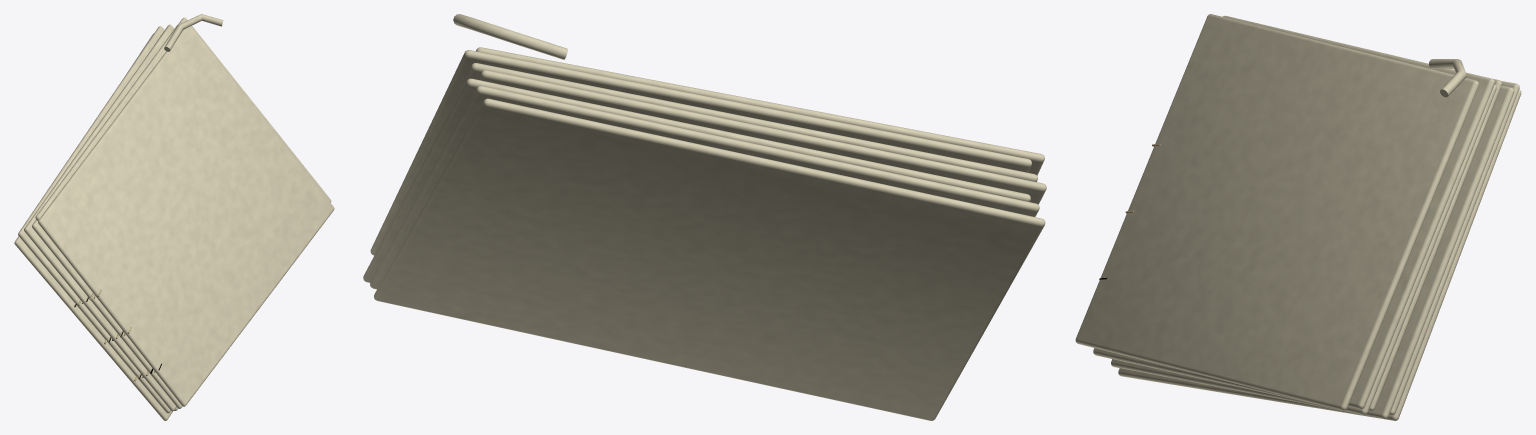
The picture shows the model from 3 angles, left to right: view 1: azimuth 30°, elevation 25°; view 2: azimuth 150°, elevation 25°; view 3: azimuth 270°, elevation 25°; orthographic projection. The views are drawn at different scales.
Visible parts, largest first — view 1: Unbleached handmade pulp sheet 0; view 2: Unbleached handmade pulp sheet 0; view 3: Unbleached handmade pulp sheet 0.
Boxes of the visible parts, box(x1,y1,x2,y2) form: Unbleached handmade pulp sheet 0: box(14, 14, 334, 420); Unbleached handmade pulp sheet 0: box(363, 14, 1046, 420); Unbleached handmade pulp sheet 0: box(1075, 14, 1521, 420).
Bounding box in the file's own units: 1.41 × 1.07 × 1.05.
1 material, 1 textured.
